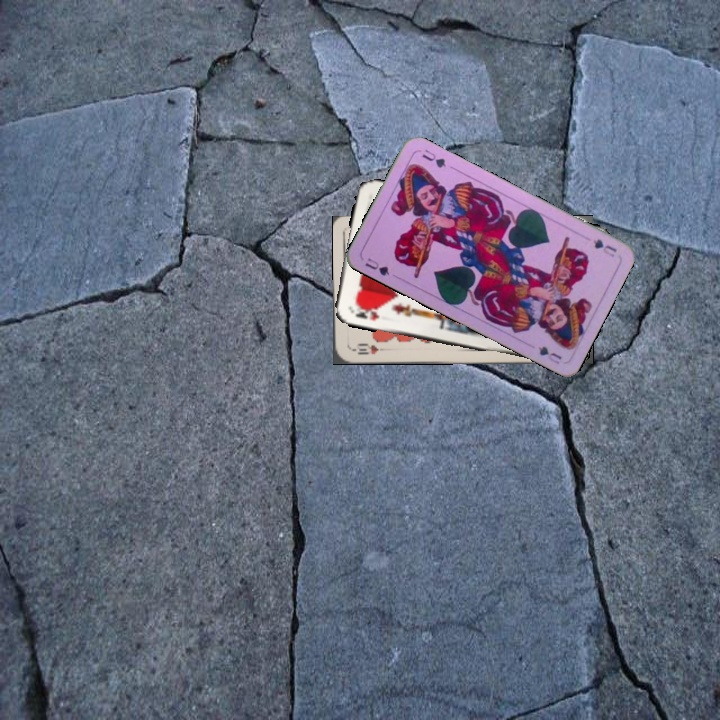GU: (589, 234, 619, 260), (361, 254, 392, 278)
H10: (348, 340, 381, 357)
HK: (349, 301, 382, 323)
